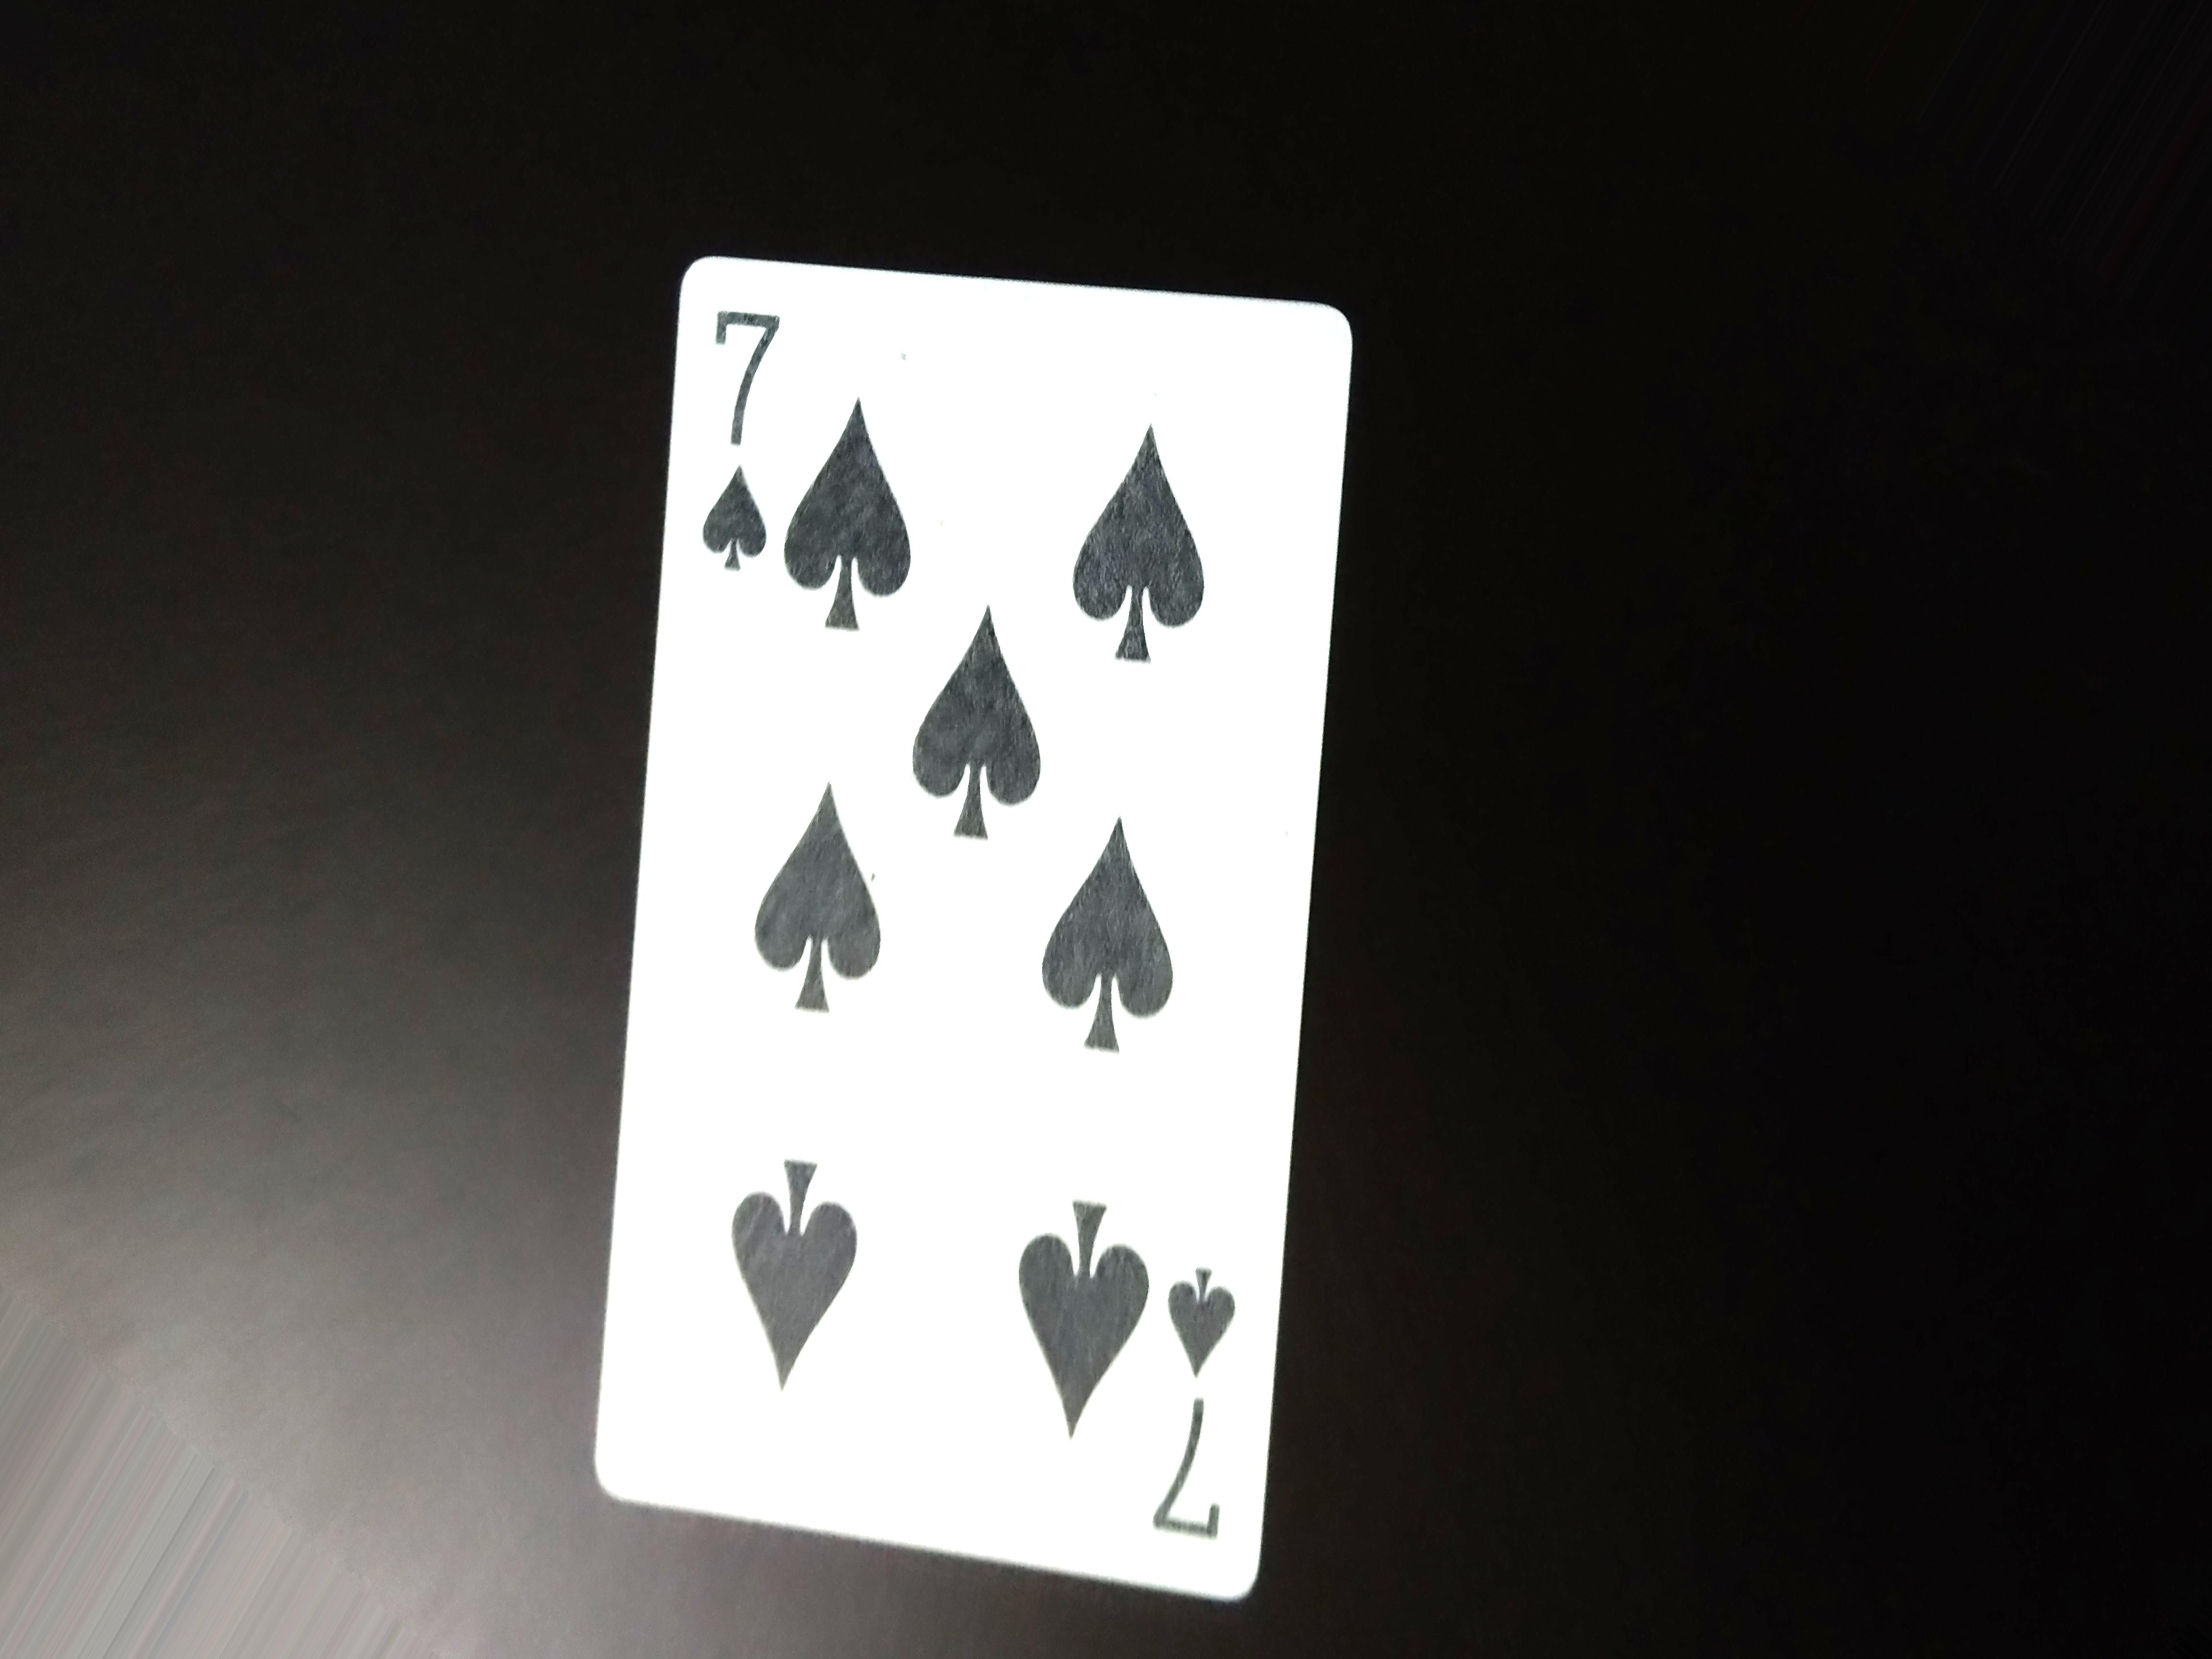7S: (695, 277, 798, 608)
